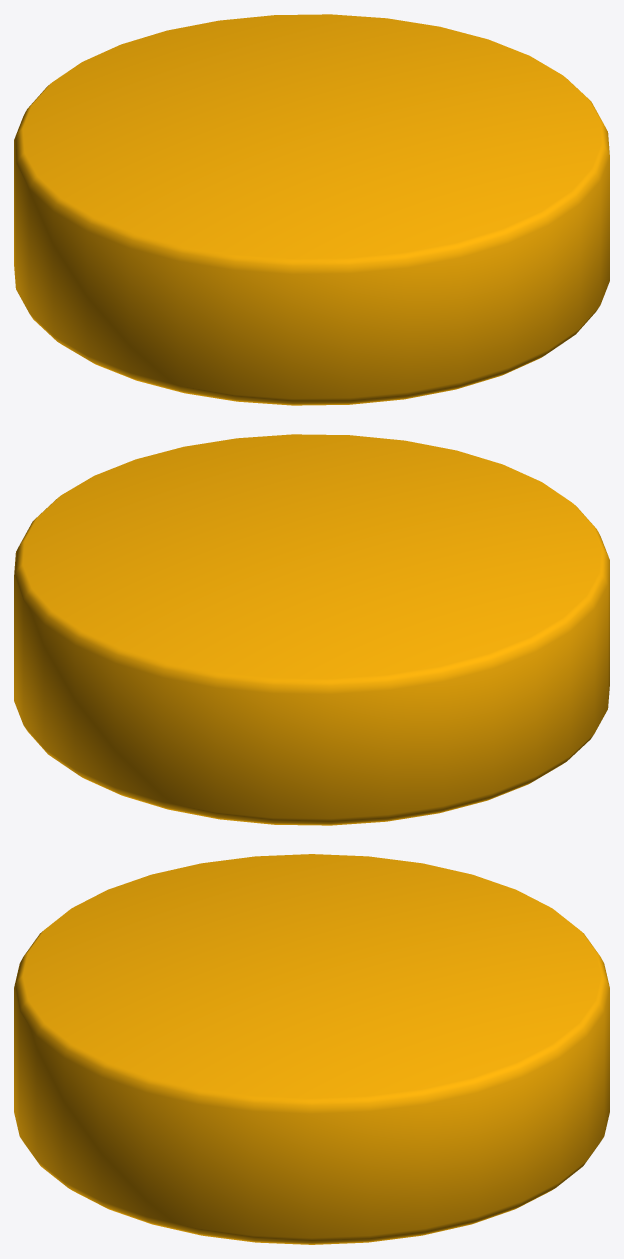
Rendered from Cheese Wheel.glb.
3 renders of one model, top to bottom at view 1: azimuth 30°, elevation 25°; view 2: azimuth 150°, elevation 25°; view 3: azimuth 270°, elevation 25°, orthographic.
Visible parts, largest first — view 1: Cylinder; view 2: Cylinder; view 3: Cylinder.
Part boxes in pixels (box(x1,y1,x2,y2)): Cylinder: box(14, 14, 609, 405); Cylinder: box(14, 434, 609, 825); Cylinder: box(14, 854, 609, 1244).
Bounding box in the file's own units: 6.07 × 1.65 × 6.07.
